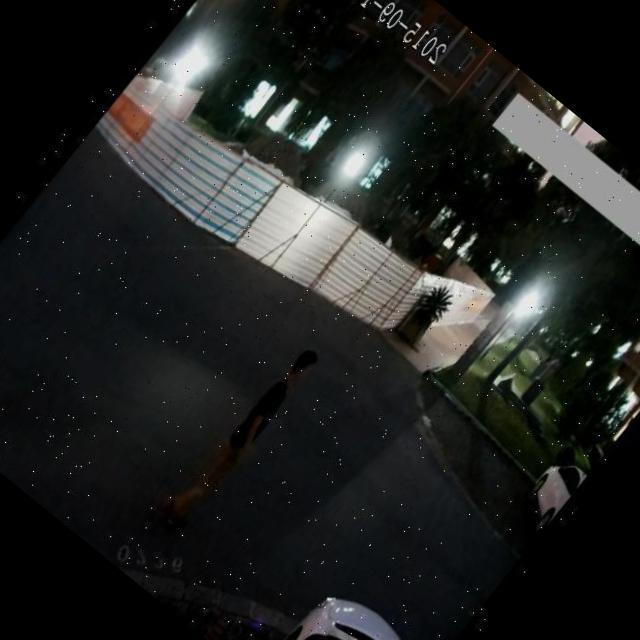person: (148, 331, 336, 549)
